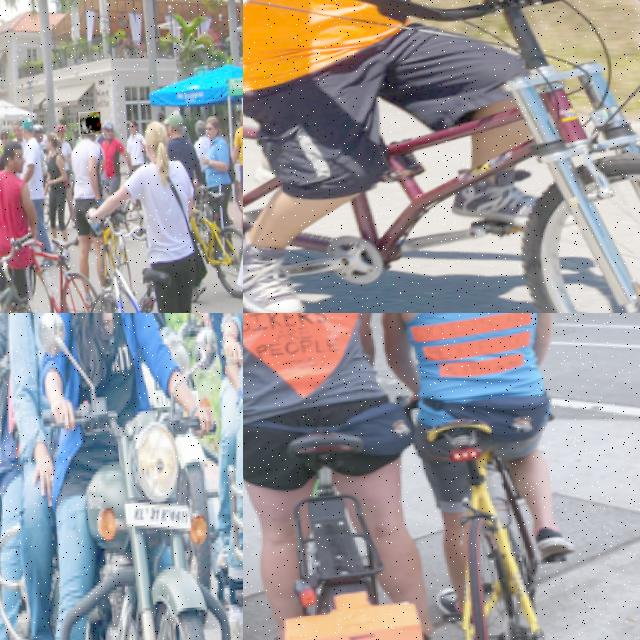helmet: (77, 110, 101, 134)
plate: (114, 476, 197, 552)
